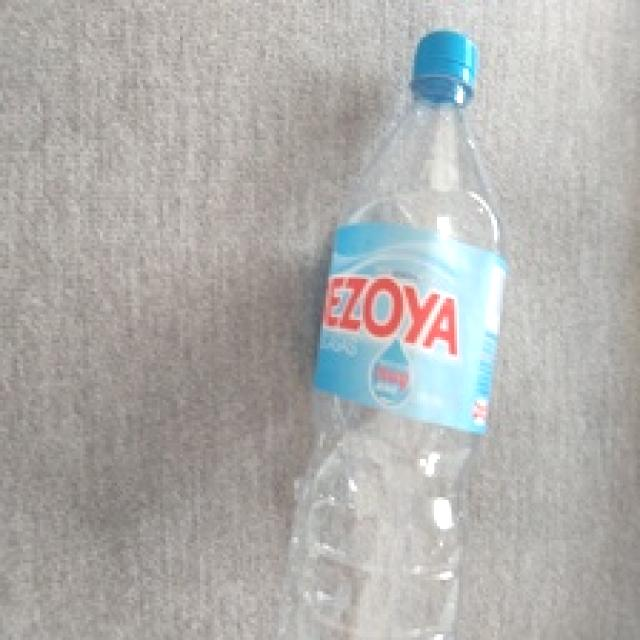bottle: (306, 18, 538, 640)
